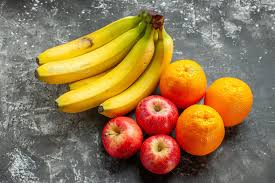apple: (100, 113, 143, 161), (140, 133, 182, 173), (137, 95, 177, 135)
banana: (36, 9, 174, 118)
orange: (206, 75, 258, 128), (177, 104, 224, 156), (159, 57, 208, 103)
